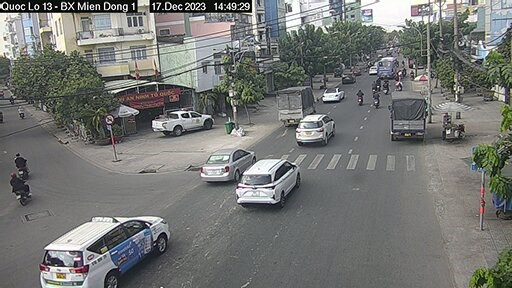car: (60, 204, 189, 288), (231, 157, 292, 206), (190, 143, 249, 193), (143, 109, 230, 134), (295, 112, 332, 151), (325, 84, 345, 107)
truck: (380, 95, 430, 146), (272, 86, 316, 121)
